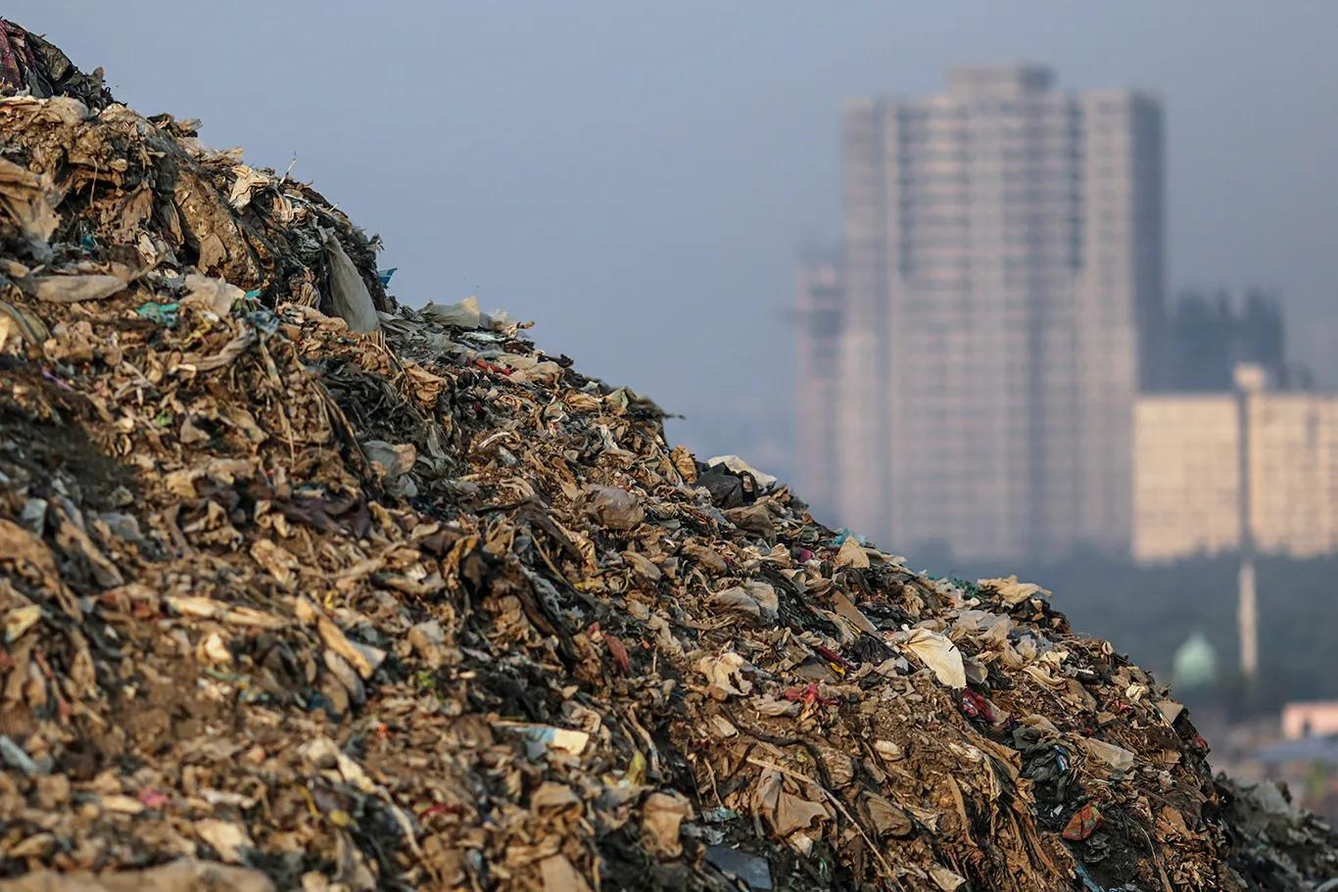garbage: (0, 522, 1238, 892), (5, 176, 320, 892)
